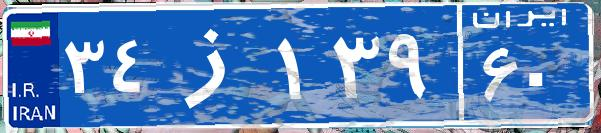0: (525, 38, 570, 115)
1: (273, 28, 330, 110)
3: (330, 28, 385, 110), (57, 26, 110, 107)
4: (110, 28, 158, 105)
6: (475, 38, 525, 113)
9: (385, 28, 445, 110)
ز: (158, 15, 273, 115)
